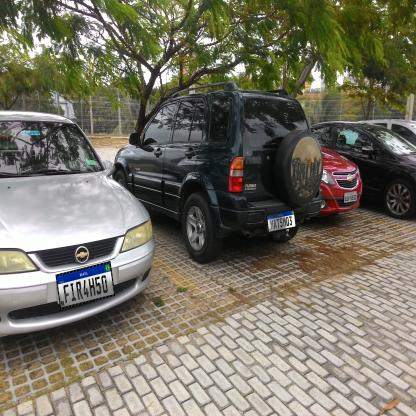PlacaM: (56, 261, 115, 309), (267, 209, 296, 233)
